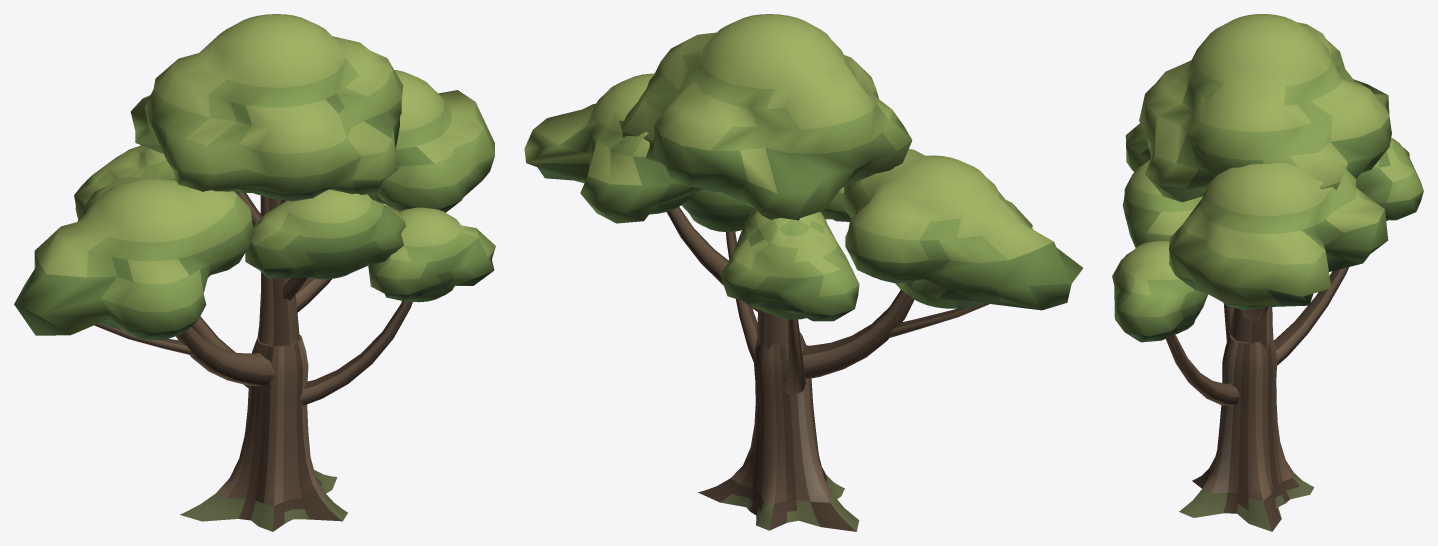
The model's file is hero-tree-a.glb.
3 renders of one model, left to right at view 1: azimuth 30°, elevation 25°; view 2: azimuth 150°, elevation 25°; view 3: azimuth 270°, elevation 25°, orthographic.
Visible parts, largest first — view 1: HeroTreeA_Canopy_01_crown, HeroTreeA_Canopy_02_left, HeroTreeA_Trunk, HeroTreeA_Canopy_03_right, HeroTreeA_Canopy_06_mid_front, HeroTreeA_Canopy_04_low_front, HeroTreeA_Branch_02, HeroTreeA_Branch_01, HeroTreeA_Canopy_05_low_back, HeroTreeA_Branch_03, HeroTreeA_Branch_06, HeroTreeA_Branch_05; view 2: HeroTreeA_Canopy_01_crown, HeroTreeA_Canopy_02_left, HeroTreeA_Trunk, HeroTreeA_Canopy_03_right, HeroTreeA_Canopy_05_low_back, HeroTreeA_Branch_02, HeroTreeA_Canopy_04_low_front, HeroTreeA_Branch_05, HeroTreeA_Branch_04, HeroTreeA_Branch_01, HeroTreeA_Branch_03, HeroTreeA_Branch_06; view 3: HeroTreeA_Canopy_01_crown, HeroTreeA_Canopy_03_right, HeroTreeA_Trunk, HeroTreeA_Canopy_04_low_front, HeroTreeA_Canopy_06_mid_front, HeroTreeA_Canopy_05_low_back, HeroTreeA_Branch_04, HeroTreeA_Branch_03, HeroTreeA_Branch_01, HeroTreeA_Canopy_02_left.
Part boxes in pixels (box(x1,y1,x2,y2)): HeroTreeA_Canopy_01_crown: box(130, 14, 403, 201); HeroTreeA_Canopy_02_left: box(14, 177, 253, 339); HeroTreeA_Trunk: box(180, 334, 347, 531); HeroTreeA_Canopy_03_right: box(368, 70, 494, 212); HeroTreeA_Canopy_06_mid_front: box(245, 189, 405, 279); HeroTreeA_Canopy_04_low_front: box(368, 207, 495, 302); HeroTreeA_Branch_02: box(176, 326, 276, 385); HeroTreeA_Branch_01: box(257, 195, 299, 346); HeroTreeA_Canopy_05_low_back: box(74, 145, 175, 219); HeroTreeA_Branch_03: box(300, 300, 412, 405); HeroTreeA_Branch_06: box(94, 323, 192, 354); HeroTreeA_Branch_05: box(295, 277, 331, 312); HeroTreeA_Canopy_01_crown: box(618, 14, 912, 220); HeroTreeA_Canopy_02_left: box(843, 149, 1082, 310); HeroTreeA_Trunk: box(698, 332, 859, 531); HeroTreeA_Canopy_03_right: box(524, 73, 701, 223); HeroTreeA_Canopy_05_low_back: box(720, 209, 859, 321); HeroTreeA_Branch_02: box(802, 290, 914, 378); HeroTreeA_Canopy_04_low_front: box(681, 189, 753, 232); HeroTreeA_Branch_05: box(667, 207, 757, 311); HeroTreeA_Branch_04: box(782, 319, 805, 395); HeroTreeA_Branch_01: box(757, 309, 799, 350); HeroTreeA_Branch_03: box(725, 231, 757, 362); HeroTreeA_Branch_06: box(887, 303, 989, 337); HeroTreeA_Canopy_01_crown: box(1139, 14, 1391, 202); HeroTreeA_Canopy_03_right: box(1169, 162, 1388, 310); HeroTreeA_Trunk: box(1179, 334, 1314, 531); HeroTreeA_Canopy_04_low_front: box(1112, 240, 1208, 342); HeroTreeA_Canopy_06_mid_front: box(1122, 160, 1202, 247); HeroTreeA_Canopy_05_low_back: box(1356, 138, 1423, 220); HeroTreeA_Branch_04: box(1273, 267, 1348, 365); HeroTreeA_Branch_03: box(1166, 334, 1240, 405); HeroTreeA_Branch_01: box(1230, 307, 1273, 349); HeroTreeA_Canopy_02_left: box(1125, 123, 1150, 171).
Size of the model in its own units: 12.63 by 11.45 by 6.8.
Materials: 1 (1 with a texture image).
